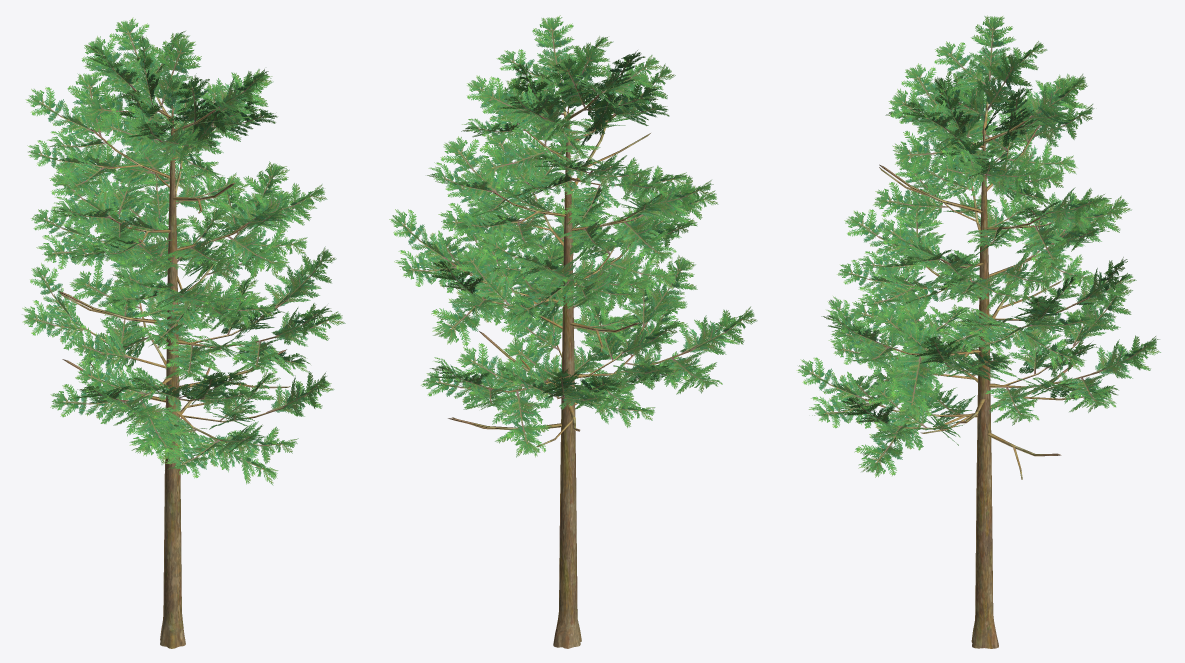
File: MS_ConiferA02.fbx
3 views of the same model, side by side, from view 1: azimuth 30°, elevation 25°; view 2: azimuth 150°, elevation 25°; view 3: azimuth 270°, elevation 25° (orthographic). The views are drawn at different scales.
Visible parts, largest first — view 1: MS_ConiferA02; view 2: MS_ConiferA02; view 3: MS_ConiferA02.
Part boxes in pixels (left/top/right/bottom): MS_ConiferA02: left=22, top=17, right=345, bottom=648; MS_ConiferA02: left=389, top=15, right=757, bottom=648; MS_ConiferA02: left=796, top=15, right=1160, bottom=648.
Size of the model in its own units: 533 by 1011 by 581.
